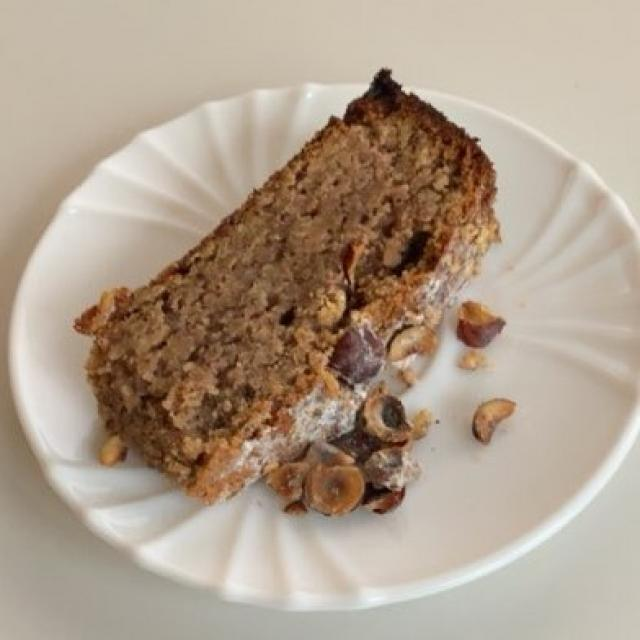nuts: (215, 306, 487, 529)
tart: (89, 84, 494, 507)
